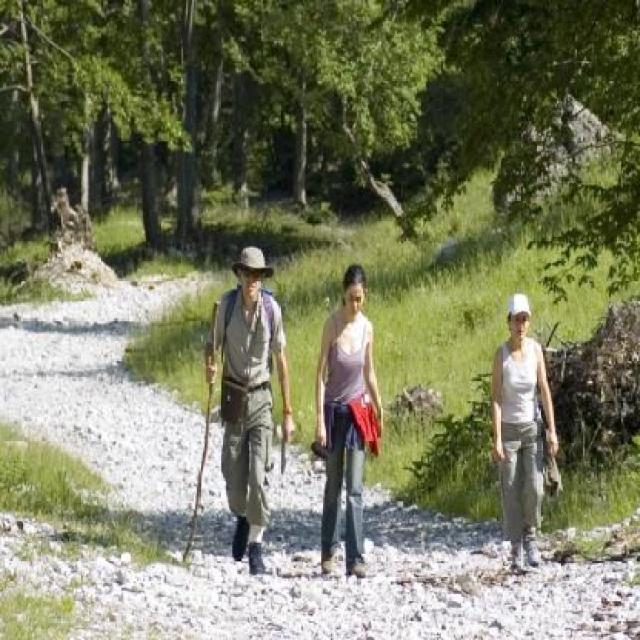backpack: (217, 375, 251, 428), (260, 290, 277, 336), (223, 286, 237, 331)
